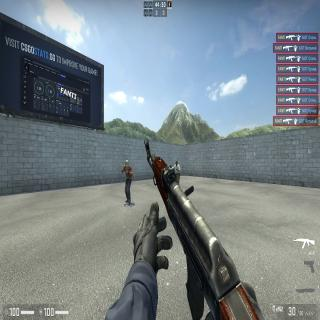T-Body: (122, 159, 132, 205)
T-Head: (125, 160, 129, 168)
